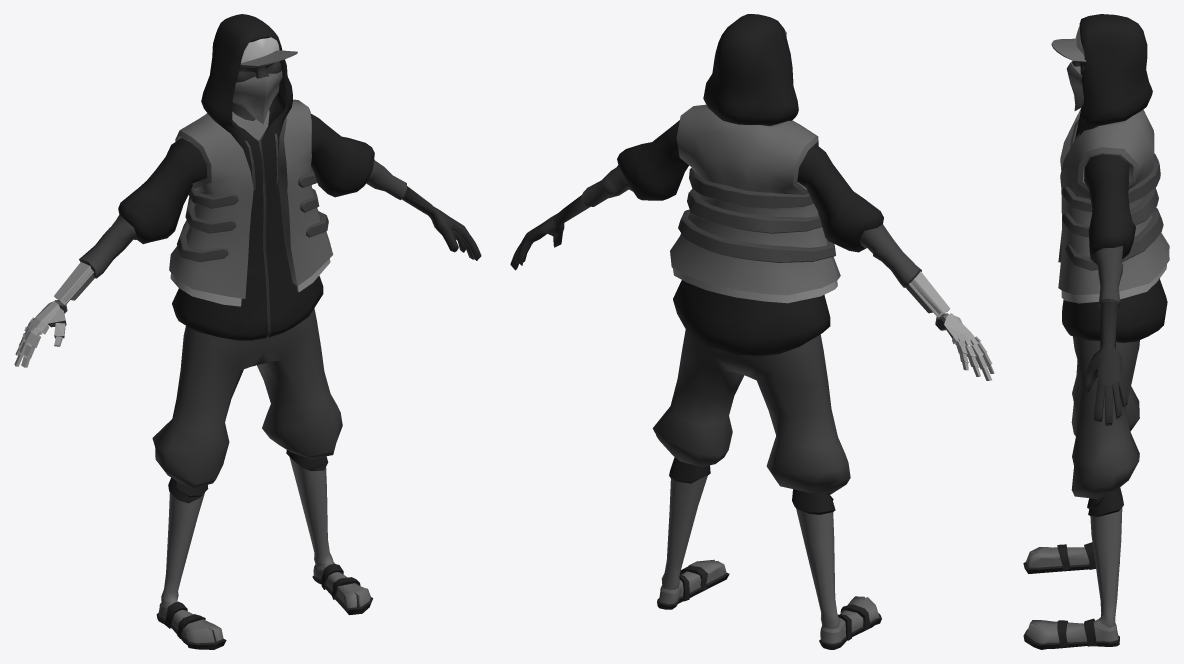
File: otaku.FBX
3 views of the same model, side by side, from view 1: azimuth 30°, elevation 25°; view 2: azimuth 150°, elevation 25°; view 3: azimuth 270°, elevation 25° (orthographic). The views are drawn at different scales.
Parts seen in each view (by area): view 1: otaku, otaku_arm, otaku_hat; view 2: otaku, otaku_arm; view 3: otaku, otaku_hat.
Part boxes in pixels (<box>): otaku: <box>79,14,481,649</box>; otaku_arm: <box>14,262,94,367</box>; otaku_hat: <box>240,37,297,66</box>; otaku: <box>510,14,921,649</box>; otaku_arm: <box>905,271,994,380</box>; otaku: <box>1023,14,1169,649</box>; otaku_hat: <box>1051,26,1086,61</box>.
Bounding box in the file's own units: 69.02 × 82.94 × 18.74.
